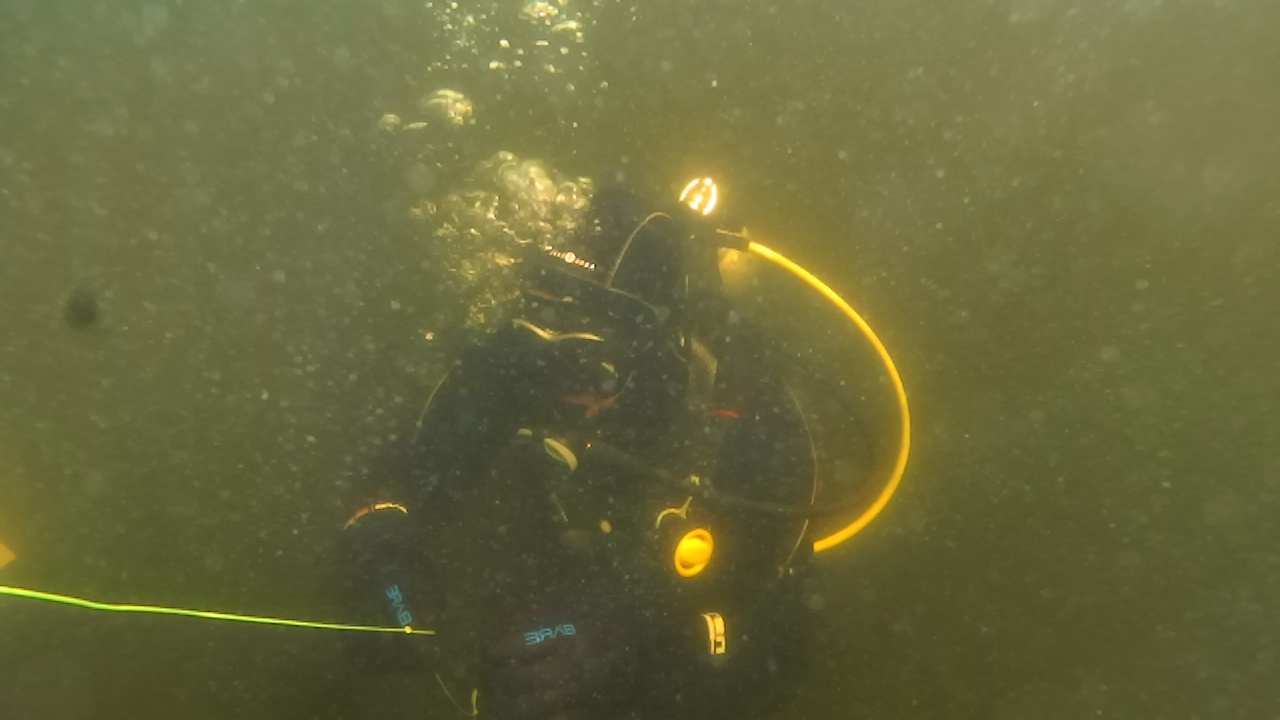Diver: (316, 166, 944, 718)
Hand: (328, 540, 472, 686), (474, 584, 634, 714)
Head: (498, 184, 694, 452)
